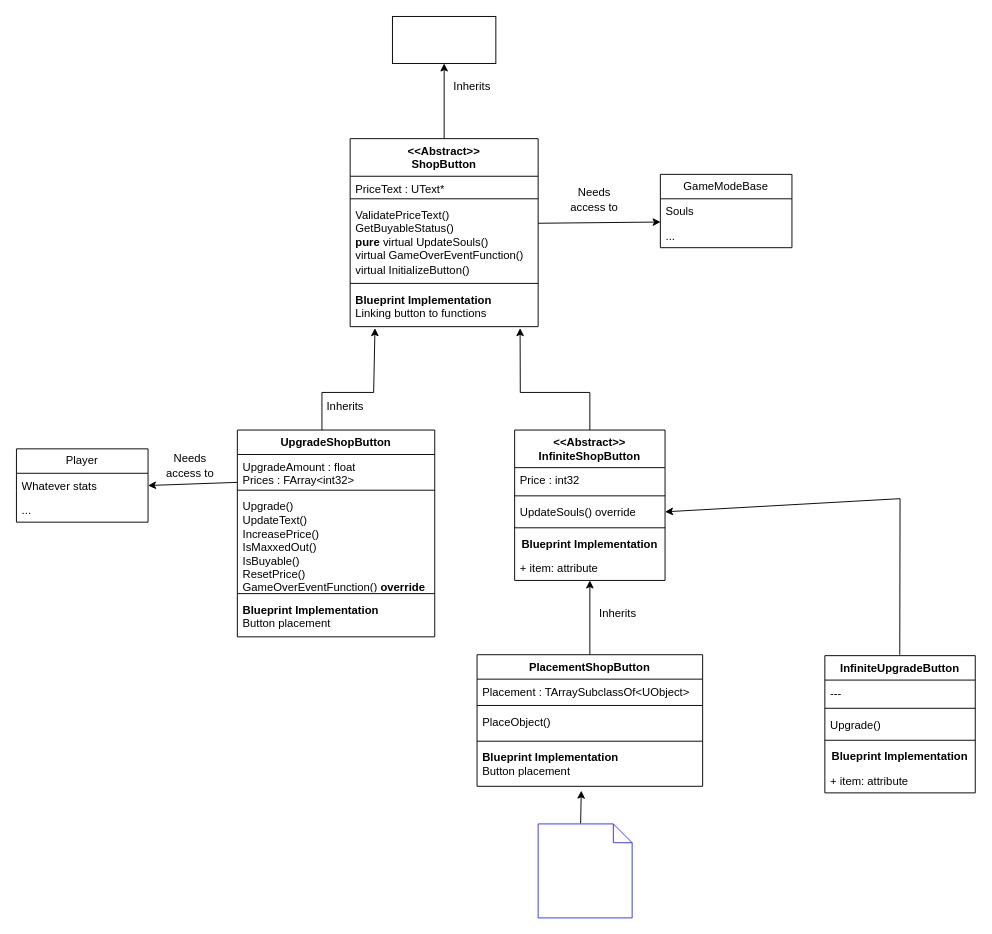
Image size: 992x934. Some labels were removed from this diagram. The shapes that lost their labels are listed below. From the top down, each one's centre as x and y in pixels, then its label:
At pixel 444 39: "UButton".
At pixel 584 870: "Class for items that can be placed in-game".
